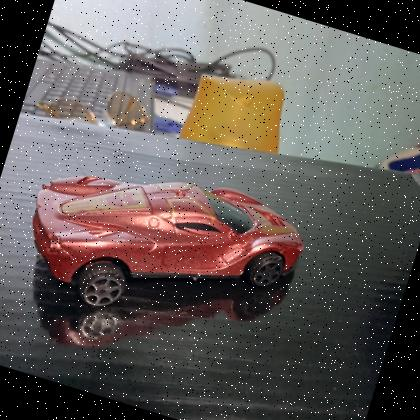Car: (5, 128, 320, 366)
